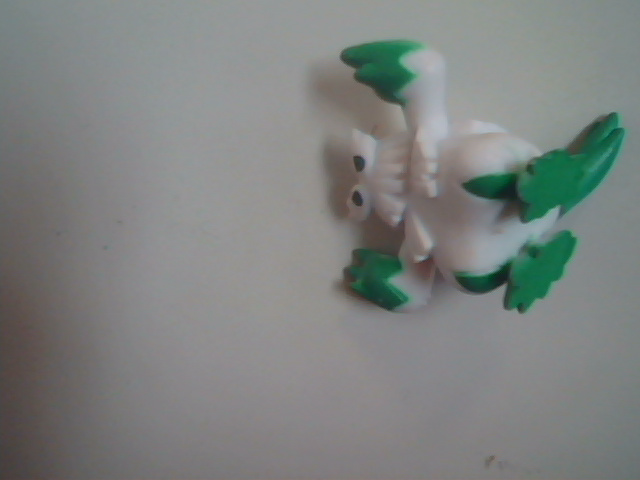abomasnow: (268, 19, 637, 357)
